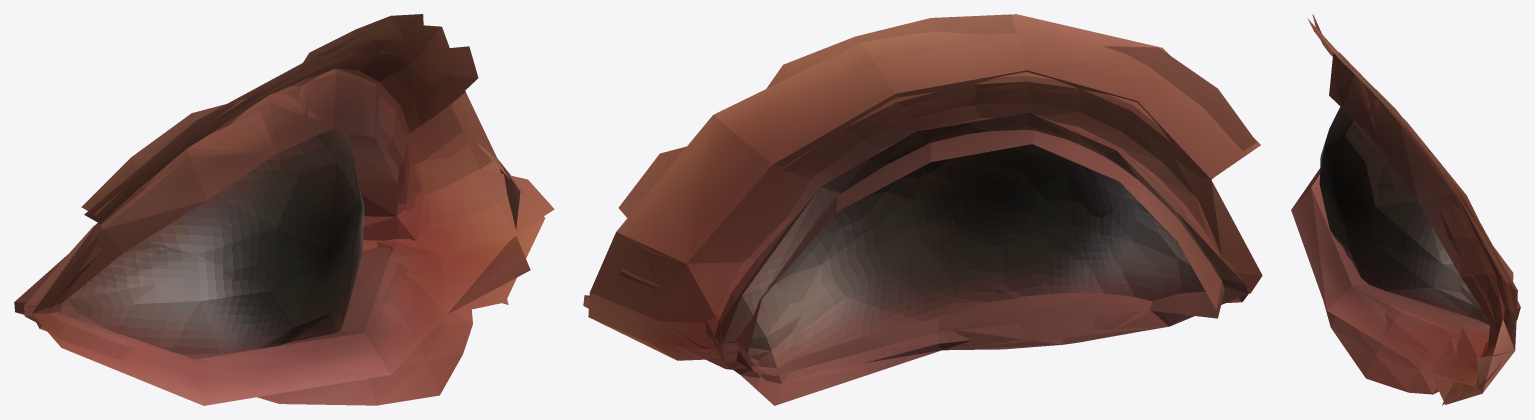
Rendered from myREye.obj.
The picture shows the model from 3 angles, left to right: view 1: azimuth 30°, elevation 25°; view 2: azimuth 150°, elevation 25°; view 3: azimuth 270°, elevation 25°; orthographic projection. The views are drawn at different scales.
Parts seen in each view (by area): view 1: myel2.001_myel2.001_Texture5_nose1_sk_nose1_skin_hi.png, myel2.001_myel2.001_Texture3_nose1_ey_nose1_eyeR_lo.png, myel2.001_myel2.001_Texture6_nose1_sk_nose1_skin_lo.png, myel2.001_myel2.001_Texture7_nose1_sk_nose1_skin_med.png, myel2.001_myel2.001_Texture2_nose1_ey_nose1_eyeR_hi.png; view 2: myel2.001_myel2.001_Texture6_nose1_sk_nose1_skin_lo.png, myel2.001_myel2.001_Texture2_nose1_ey_nose1_eyeR_hi.png, myel2.001_myel2.001_Texture5_nose1_sk_nose1_skin_hi.png, myel2.001_myel2.001_Texture3_nose1_ey_nose1_eyeR_lo.png, myel2.001_myel2.001_Texture7_nose1_sk_nose1_skin_med.png; view 3: myel2.001_myel2.001_Texture3_nose1_ey_nose1_eyeR_lo.png, myel2.001_myel2.001_Texture5_nose1_sk_nose1_skin_hi.png, myel2.001_myel2.001_Texture6_nose1_sk_nose1_skin_lo.png, myel2.001_myel2.001_Texture7_nose1_sk_nose1_skin_med.png, myel2.001_myel2.001_Texture2_nose1_ey_nose1_eyeR_hi.png.
Boxes of the visible parts, x1,y1,x2,y2 form: myel2.001_myel2.001_Texture5_nose1_sk_nose1_skin_hi.png: (24,14,554,405); myel2.001_myel2.001_Texture3_nose1_ey_nose1_eyeR_lo.png: (121,129,364,354); myel2.001_myel2.001_Texture6_nose1_sk_nose1_skin_lo.png: (14,58,530,405); myel2.001_myel2.001_Texture7_nose1_sk_nose1_skin_med.png: (24,23,545,332); myel2.001_myel2.001_Texture2_nose1_ey_nose1_eyeR_hi.png: (60,140,346,342); myel2.001_myel2.001_Texture6_nose1_sk_nose1_skin_lo.png: (590,14,1262,375); myel2.001_myel2.001_Texture2_nose1_ey_nose1_eyeR_hi.png: (723,112,1247,403); myel2.001_myel2.001_Texture5_nose1_sk_nose1_skin_hi.png: (583,14,1256,369); myel2.001_myel2.001_Texture3_nose1_ey_nose1_eyeR_lo.png: (723,114,1247,405); myel2.001_myel2.001_Texture7_nose1_sk_nose1_skin_med.png: (588,70,1261,363); myel2.001_myel2.001_Texture3_nose1_ey_nose1_eyeR_lo.png: (1319,106,1474,318); myel2.001_myel2.001_Texture5_nose1_sk_nose1_skin_hi.png: (1312,14,1514,405); myel2.001_myel2.001_Texture6_nose1_sk_nose1_skin_lo.png: (1291,19,1520,386); myel2.001_myel2.001_Texture7_nose1_sk_nose1_skin_med.png: (1307,18,1517,404); myel2.001_myel2.001_Texture2_nose1_ey_nose1_eyeR_hi.png: (1322,125,1490,325).
Size of the model in its own units: 0.8738 by 0.534 by 0.4029.
5 materials, 5 textured.
